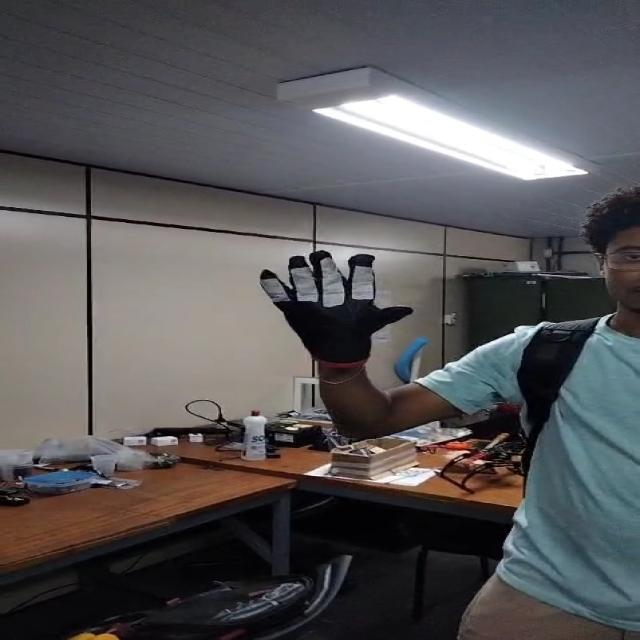Gloves: (254, 247, 428, 369)
